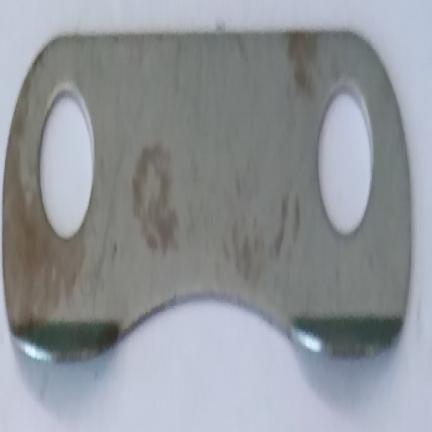besi_tidak_karat: (0, 31, 411, 361)
